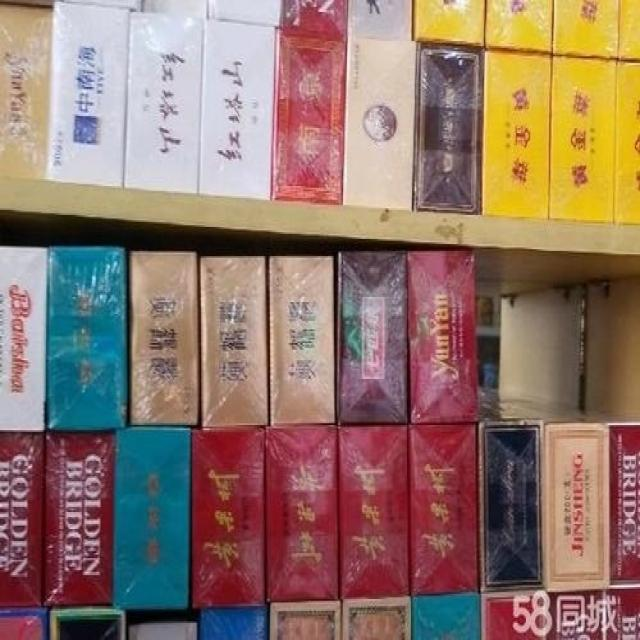box: (507, 398, 611, 594), (44, 2, 131, 186), (122, 10, 205, 191), (45, 247, 127, 430), (198, 19, 278, 200), (113, 428, 193, 608), (191, 427, 266, 609), (271, 26, 346, 207), (344, 38, 420, 212), (264, 425, 339, 601), (477, 401, 545, 592), (44, 428, 116, 608), (408, 422, 481, 594), (407, 251, 480, 423), (337, 253, 410, 423), (339, 425, 410, 599), (480, 49, 552, 220), (129, 249, 197, 423), (548, 55, 618, 224), (201, 256, 269, 427), (269, 256, 335, 425), (417, 46, 479, 213), (0, 3, 52, 179), (0, 246, 49, 432), (0, 432, 44, 608), (609, 425, 640, 585), (614, 60, 640, 225), (553, 0, 620, 60), (484, 0, 552, 53), (411, 591, 480, 640), (413, 0, 486, 44), (545, 587, 605, 640), (342, 594, 411, 640), (480, 592, 545, 640), (268, 601, 342, 640), (279, 0, 348, 41), (45, 608, 125, 640), (346, 0, 412, 38), (198, 604, 266, 640), (125, 608, 198, 640), (604, 585, 640, 640), (206, 0, 282, 24), (0, 608, 47, 640), (617, 0, 640, 58), (142, 0, 206, 14)
